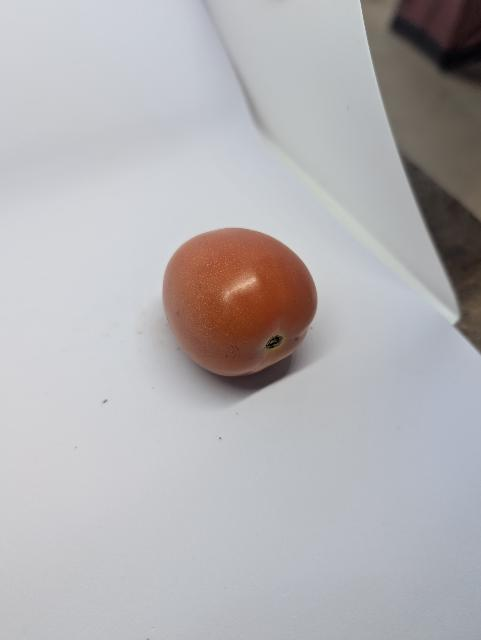red: (155, 221, 340, 394)
